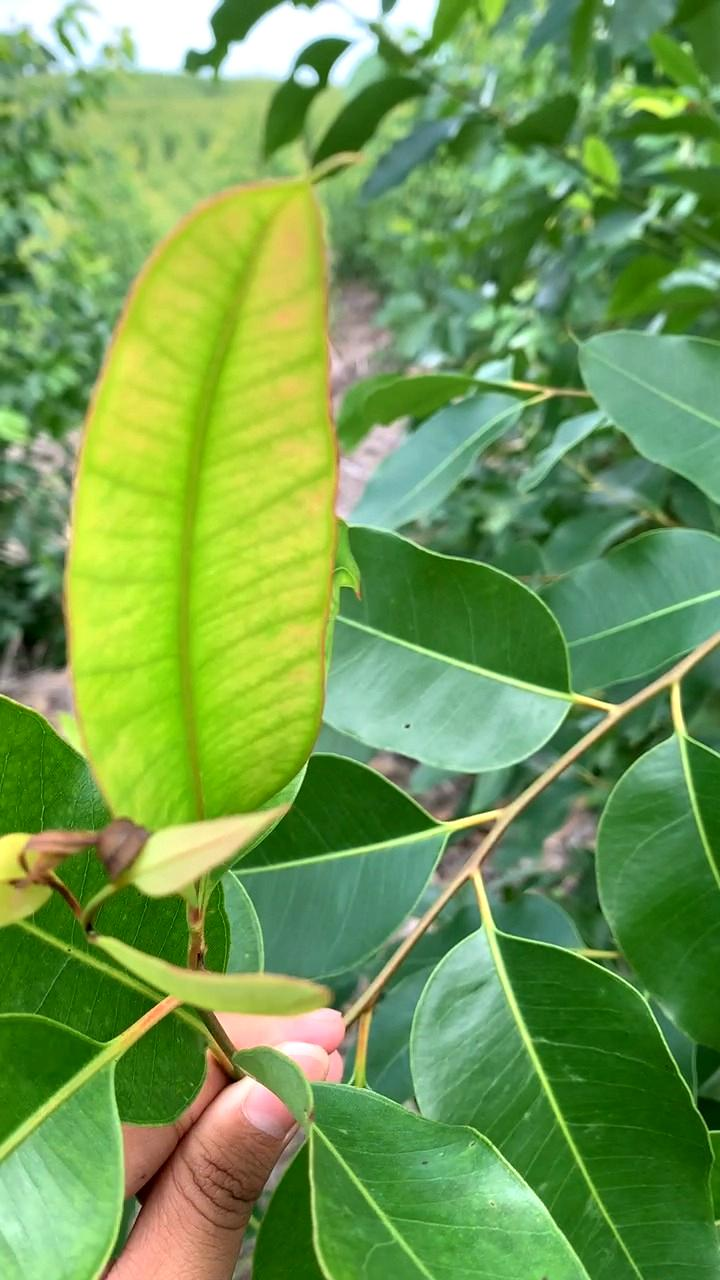Helopeltis-Withered Sprout: (9, 816, 157, 909)
